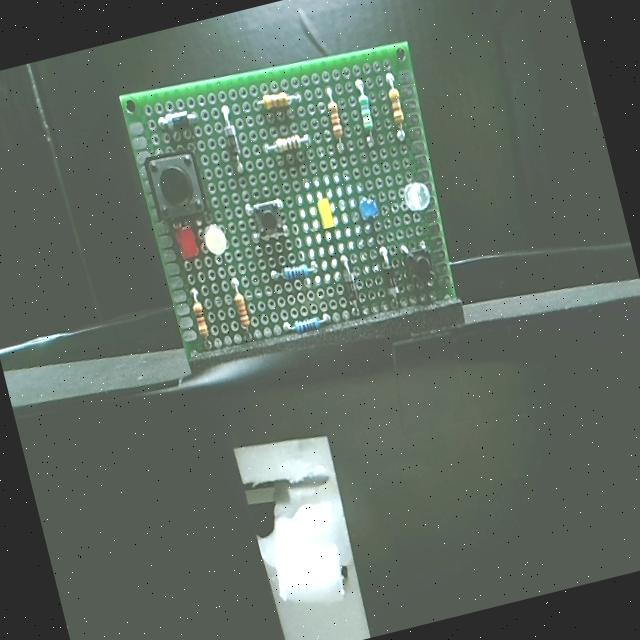diode: (148, 96, 201, 142), (216, 116, 253, 173), (374, 250, 406, 308), (338, 254, 368, 312)
led: (396, 173, 436, 221), (200, 218, 236, 263), (172, 217, 204, 265), (351, 190, 383, 228), (310, 197, 340, 232)
resistor: (252, 77, 296, 119), (351, 89, 384, 144), (280, 306, 327, 343), (186, 297, 217, 346), (264, 132, 310, 164), (269, 255, 313, 286), (324, 96, 350, 144), (383, 82, 407, 130), (230, 286, 252, 328)
switch: (142, 143, 210, 221), (236, 184, 288, 250), (402, 235, 440, 292)
